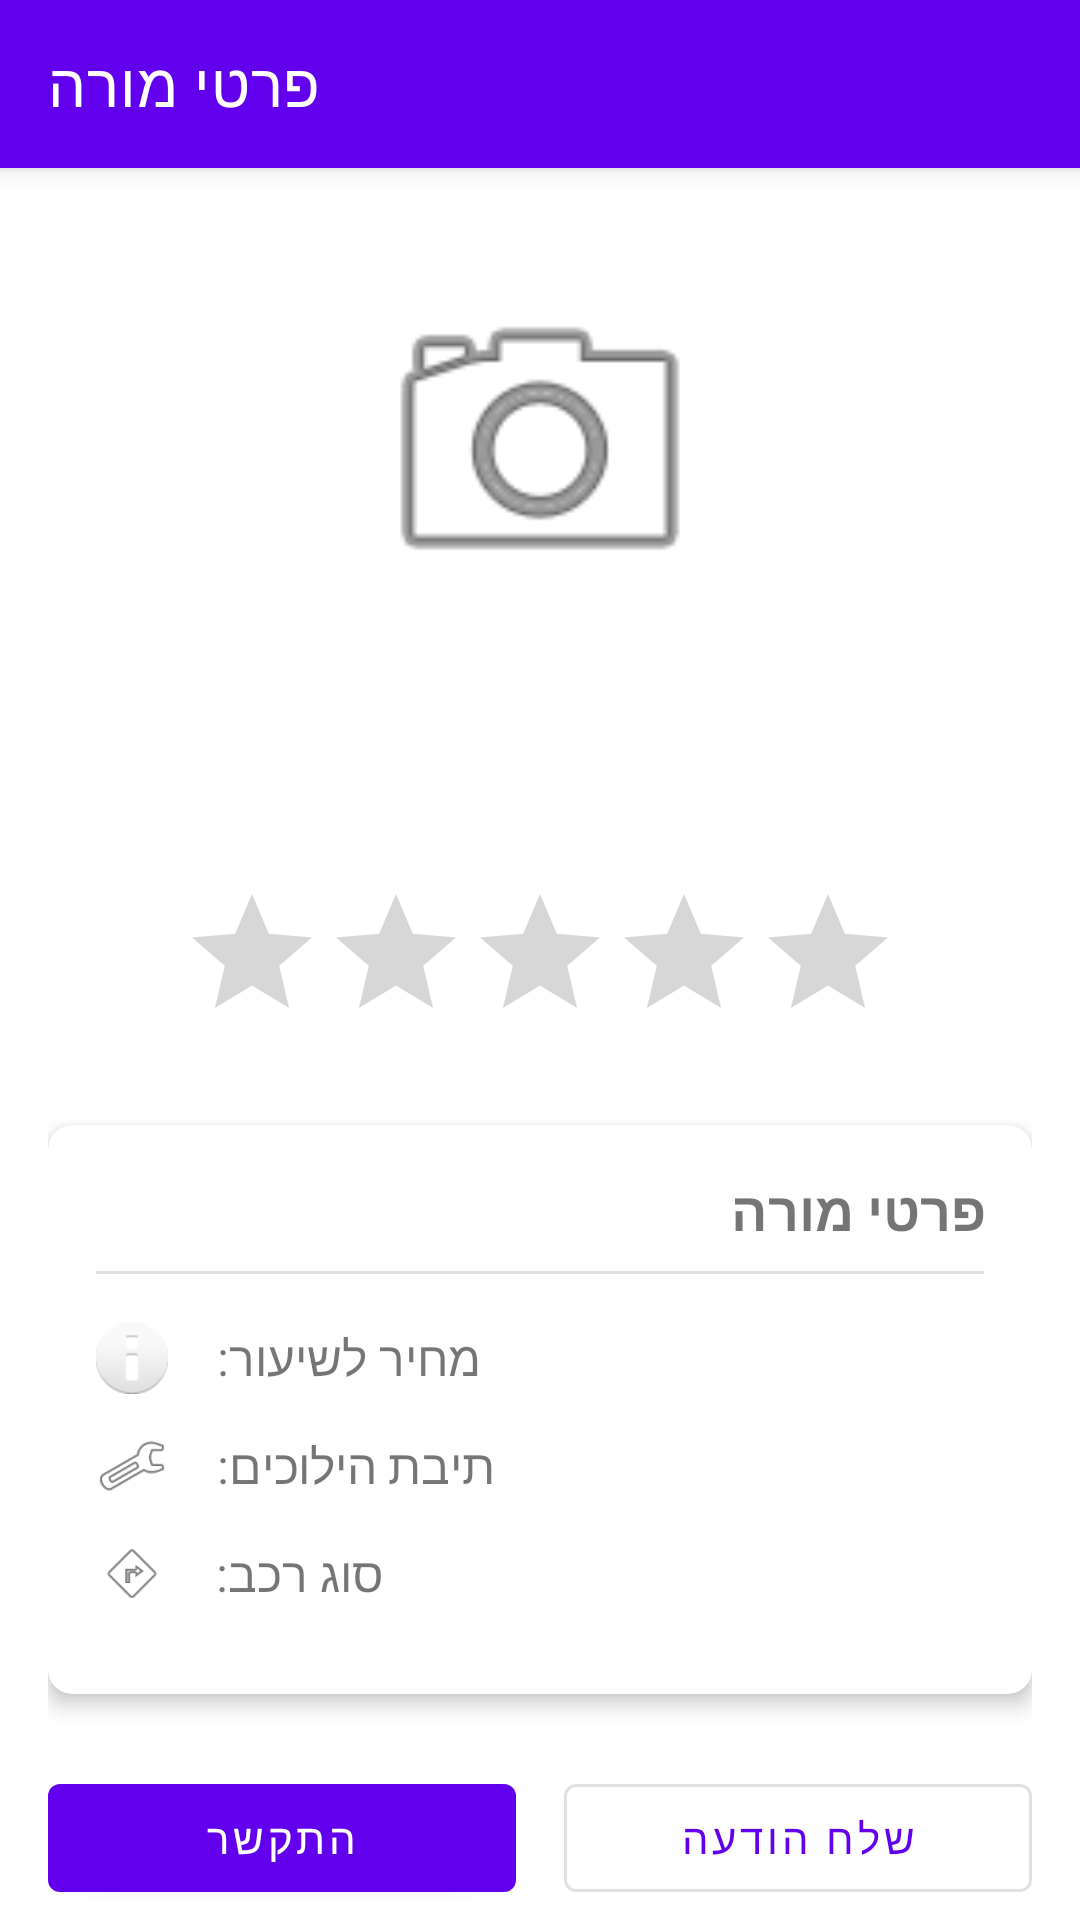

Icons on this 1080 × 1920 Android screen, each with its box as (x1=x1, y1=y1, x2=x2, y2=y2):
camera: (x1=401, y1=327, x2=679, y2=549)
directions: (x1=107, y1=1549, x2=157, y2=1598)
info: (x1=96, y1=1335, x2=168, y2=1394)
manage: (x1=99, y1=1441, x2=164, y2=1491)
